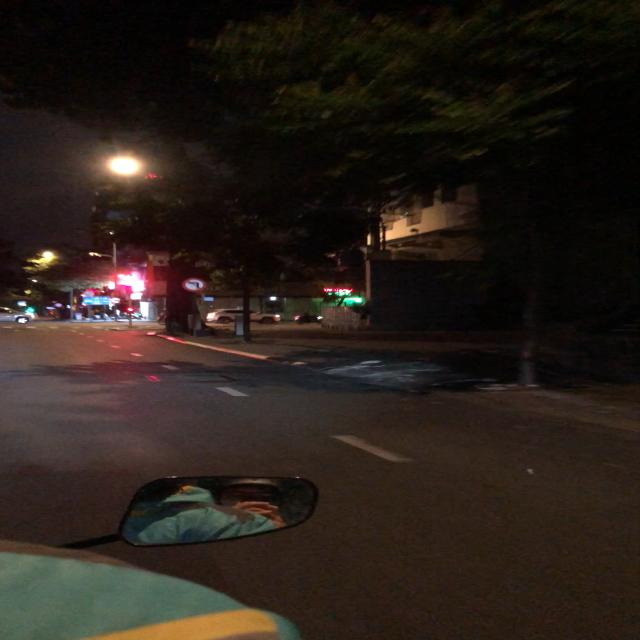Bien bao cam re trai: (179, 276, 208, 293)
